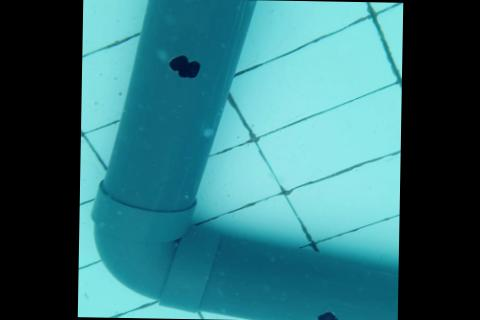kebocoran: (166, 54, 201, 79), (314, 309, 336, 320)
